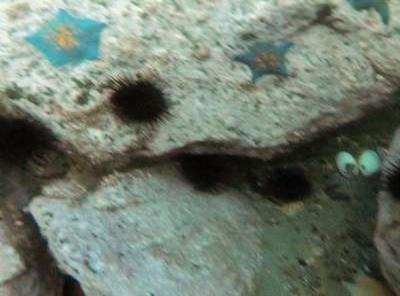urchin: (106, 75, 175, 126), (0, 110, 54, 160), (180, 152, 238, 191), (266, 165, 313, 205)
